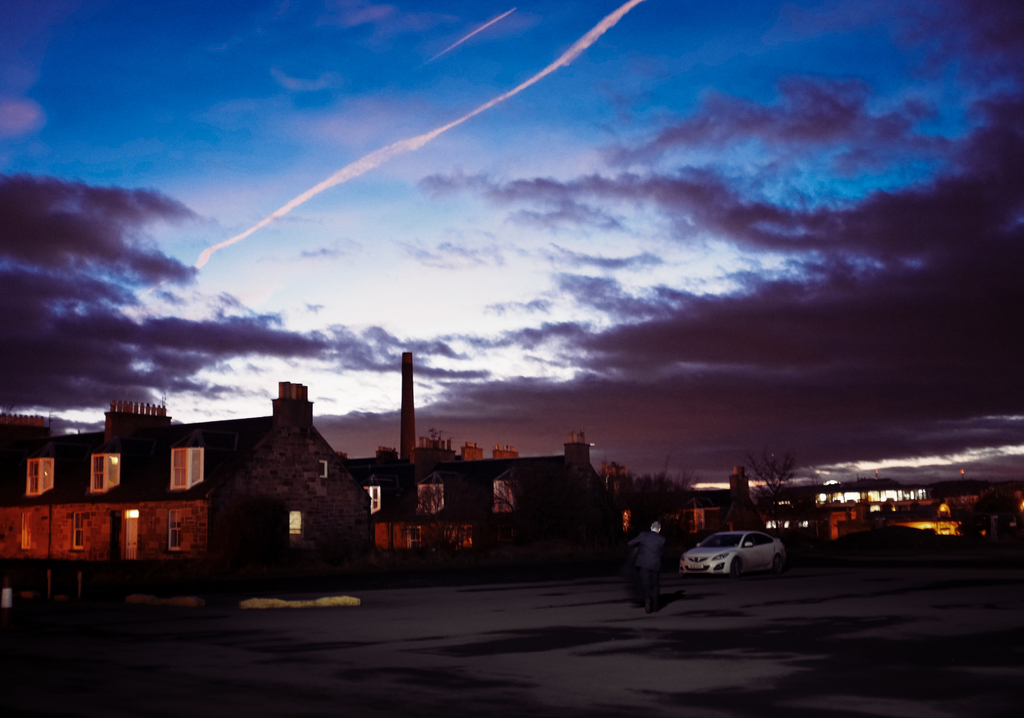Car: (674, 519, 805, 588)
